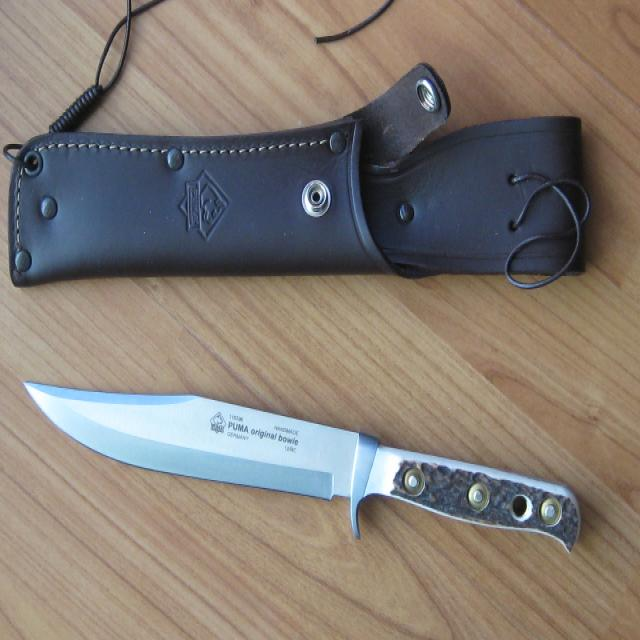knife: (22, 369, 589, 557)
